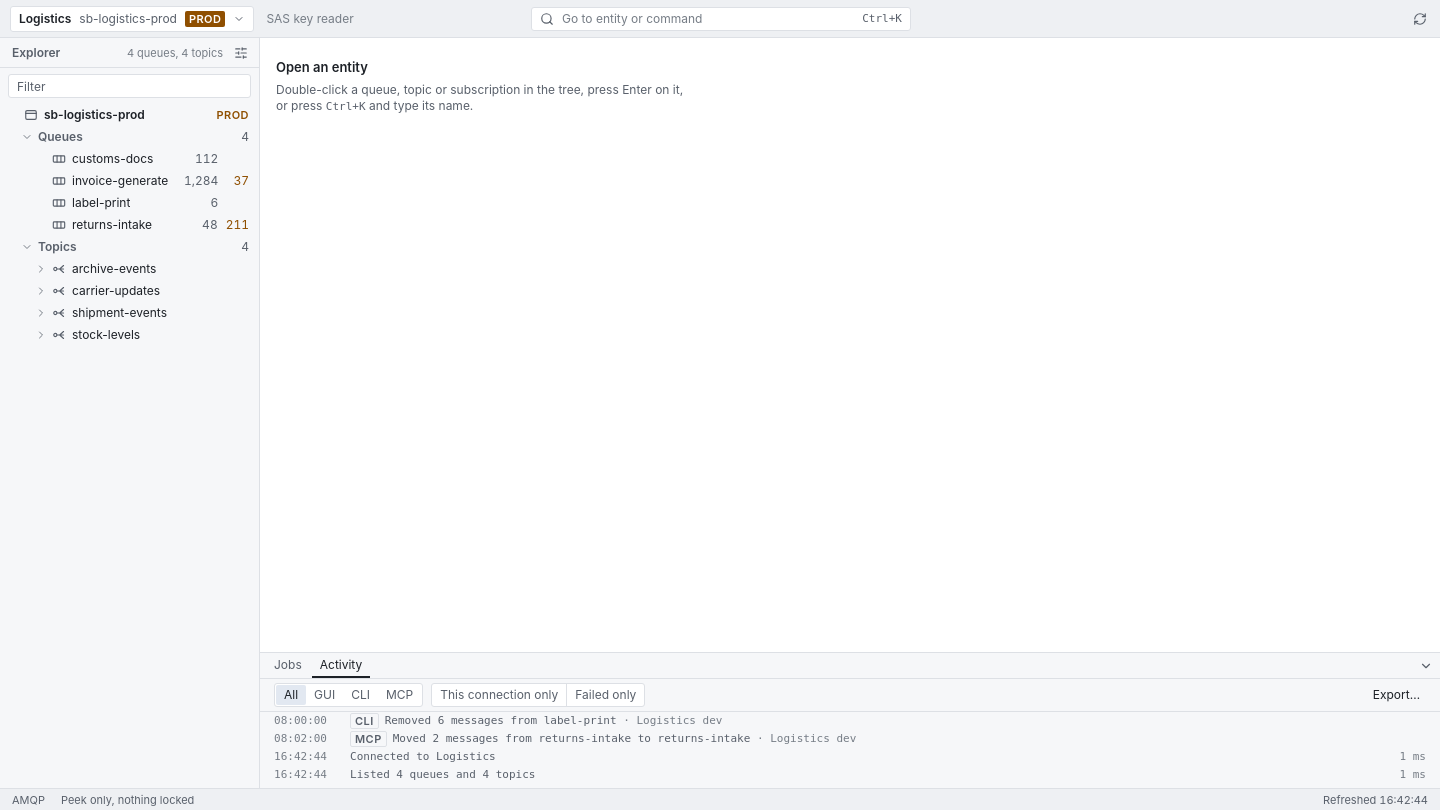
Shell › offers Show activity while the same profile reconnects, never on the welcome screen
Expected: the element that starts with "Explorer" is shown, x1=0 y1=38 x2=259 y2=788
Click the button named "Hide drawer" at (1426, 666), box x1=1416 y1=656 x2=1436 y2=676
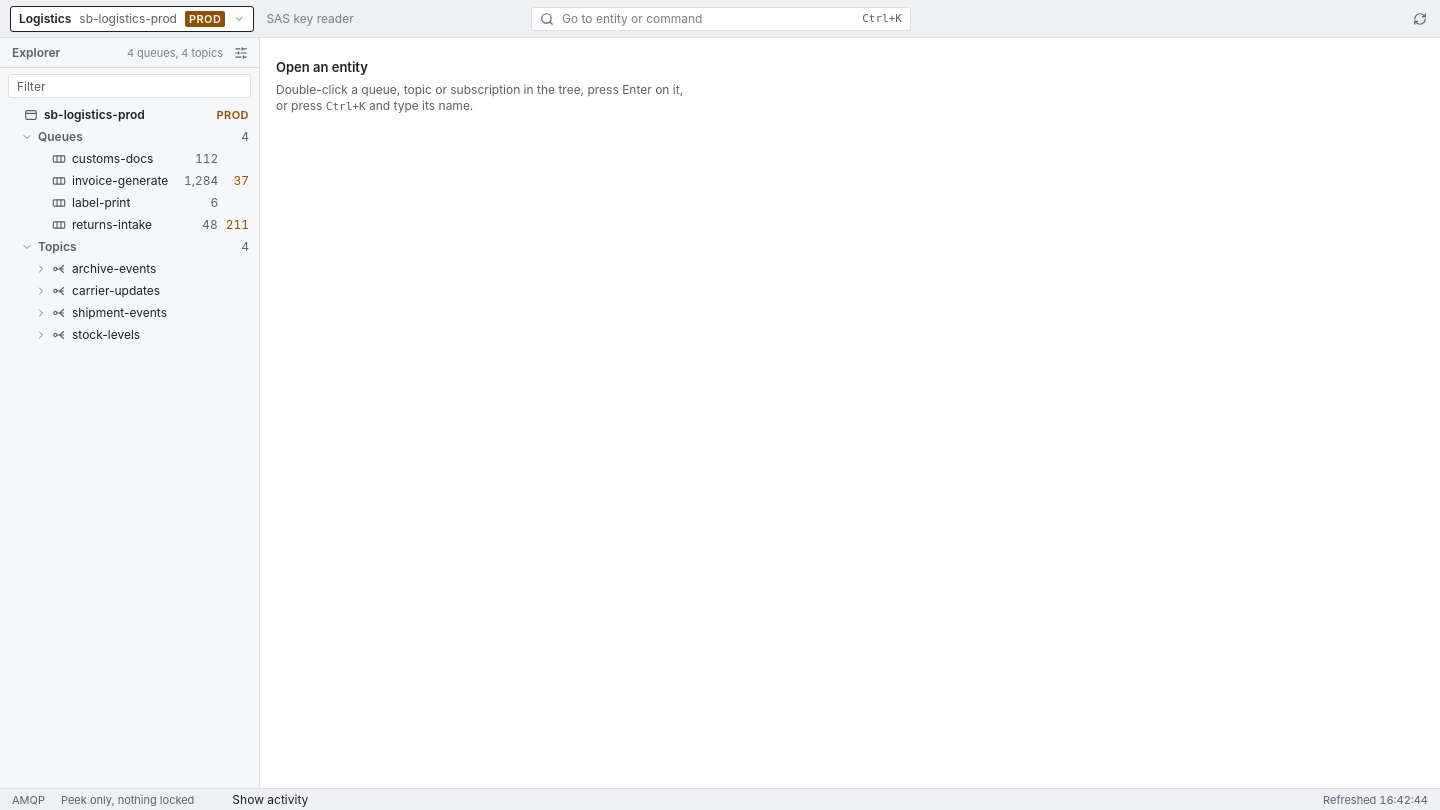
Expected: the button with aria-label "Connection: Logistics" is shown, x1=10 y1=6 x2=254 y2=32
Expected: the button "Show activity" is shown, x1=226 y1=790 x2=314 y2=808
Press Enter
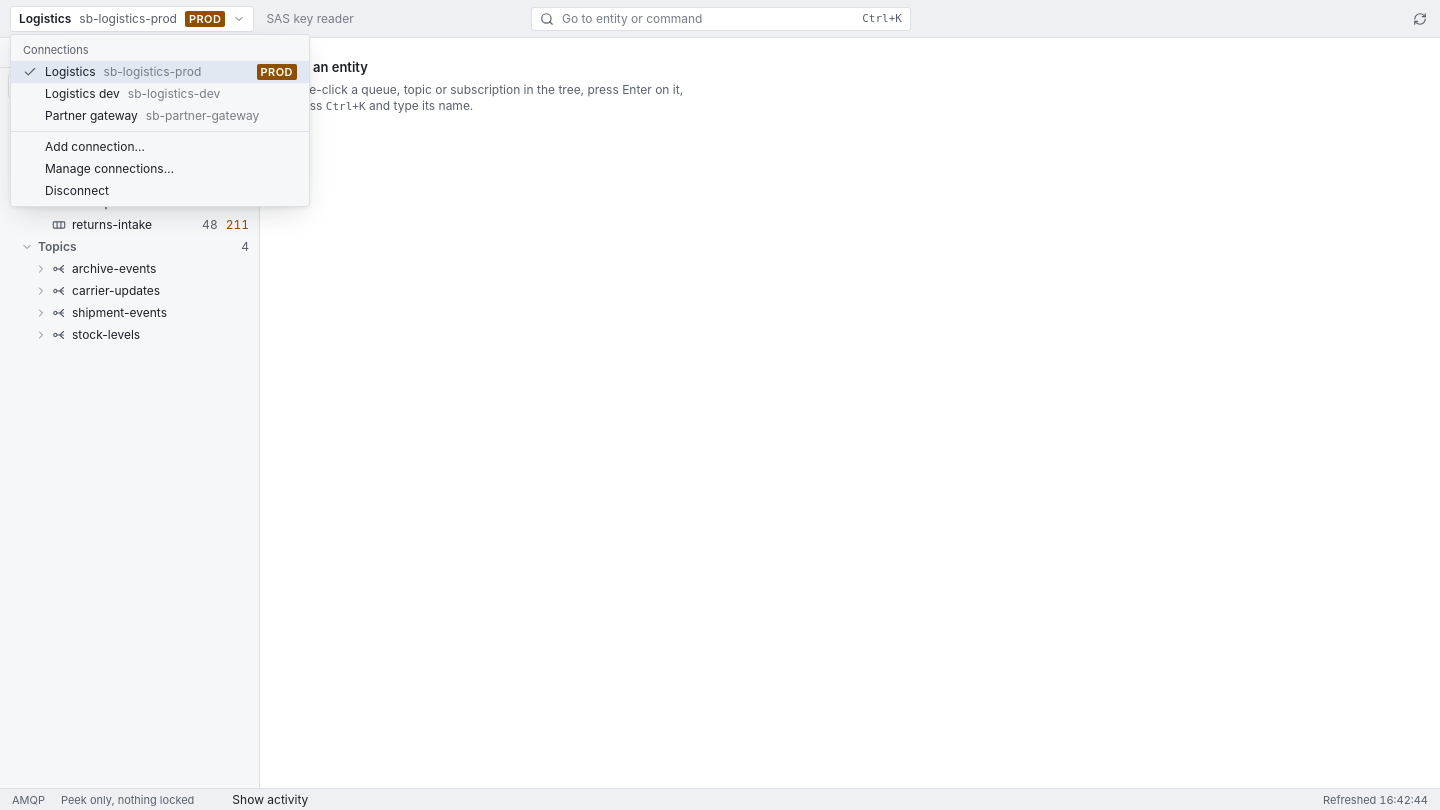
Click the menu item "Logistics sb-logistics-prod PROD" at (160, 72), box x1=11 y1=61 x2=309 y2=83
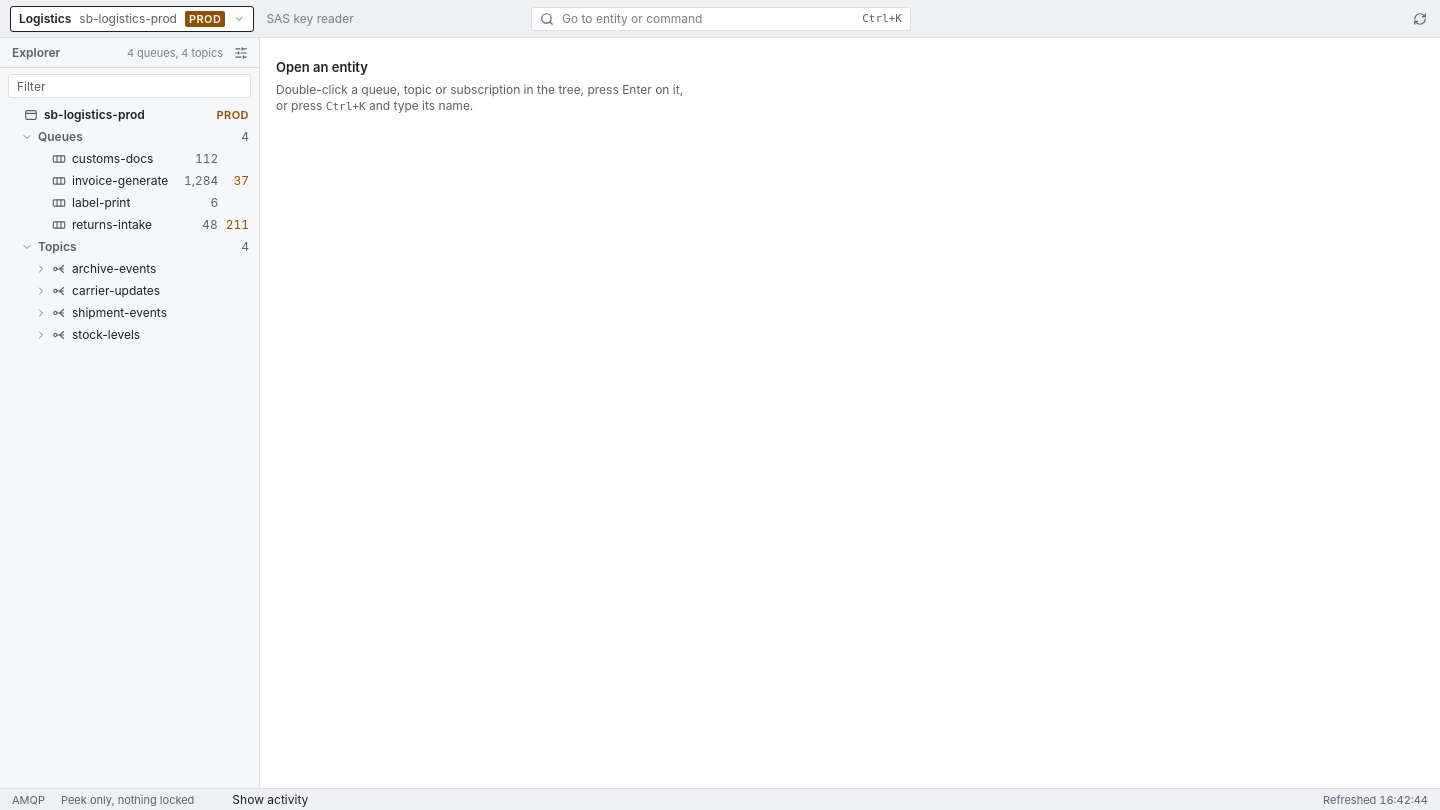
Expected: the element that starts with "Explorer" is shown, x1=0 y1=38 x2=259 y2=788
Expected: the button "Show activity" is shown, x1=226 y1=790 x2=314 y2=808
Press Enter
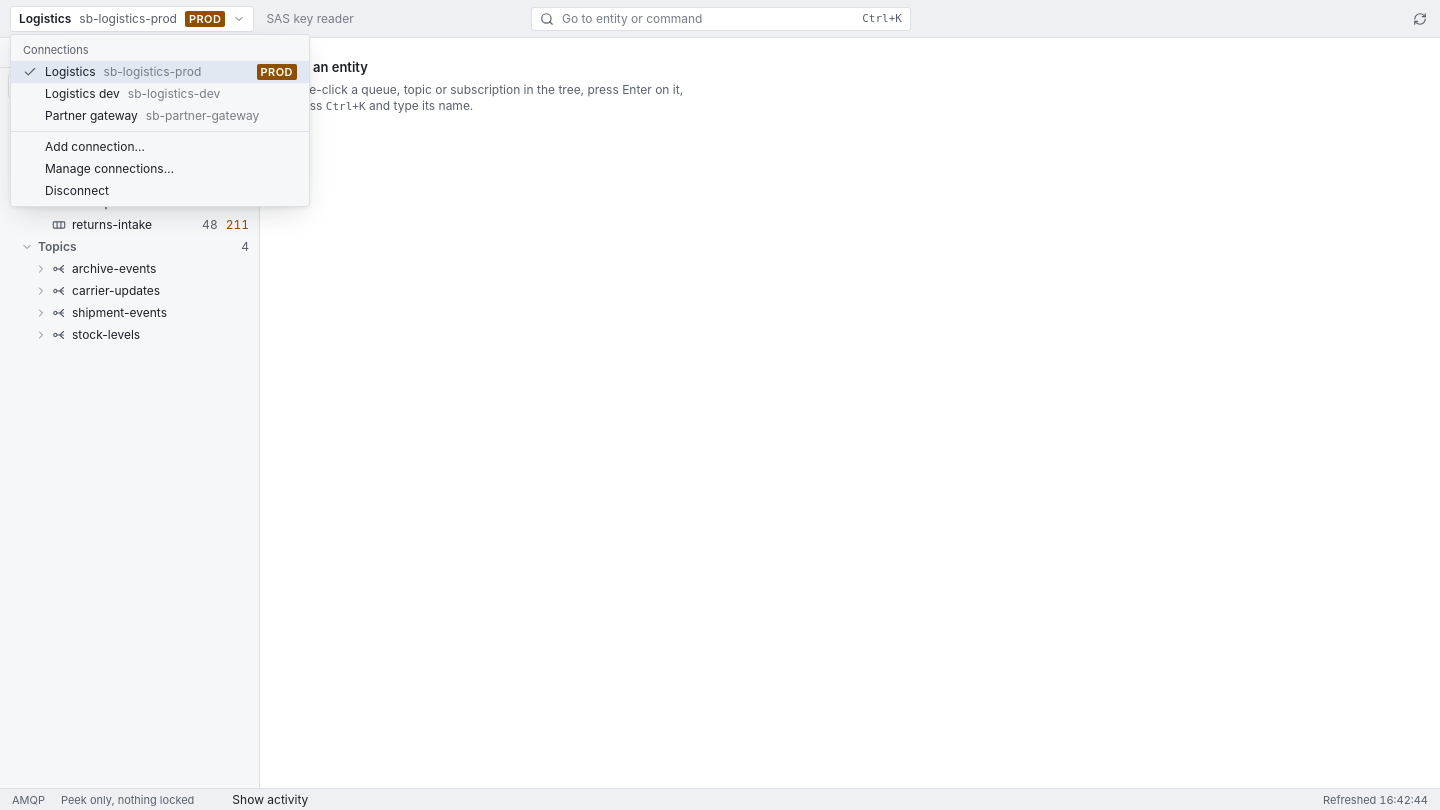
Click the menu item "Logistics dev sb-logistics-dev" at (133, 94), box x1=45 y1=86 x2=220 y2=101
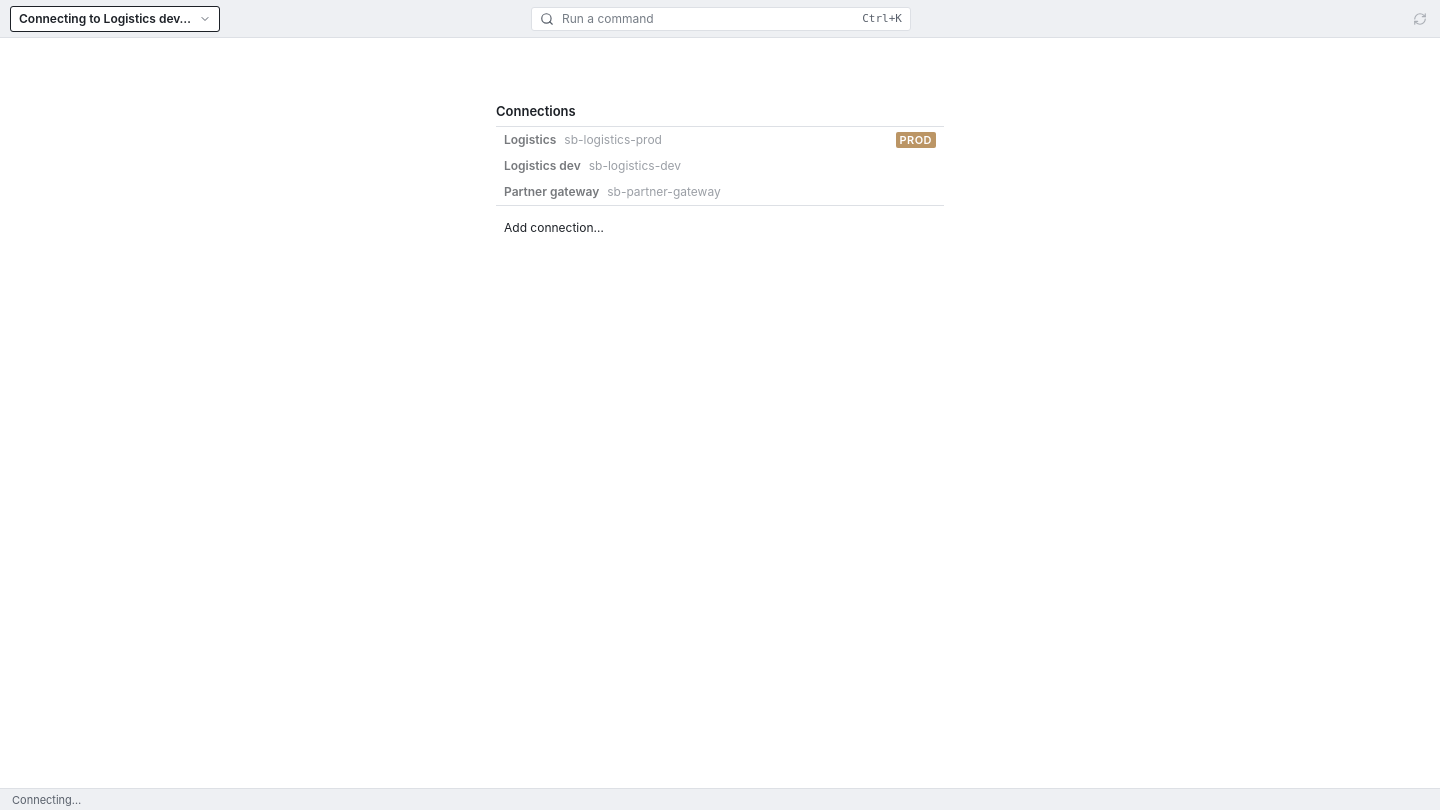
Expected: the list named "Saved connections" is shown, x1=496 y1=126 x2=944 y2=206
Expected: the button "Show activity" is gone
